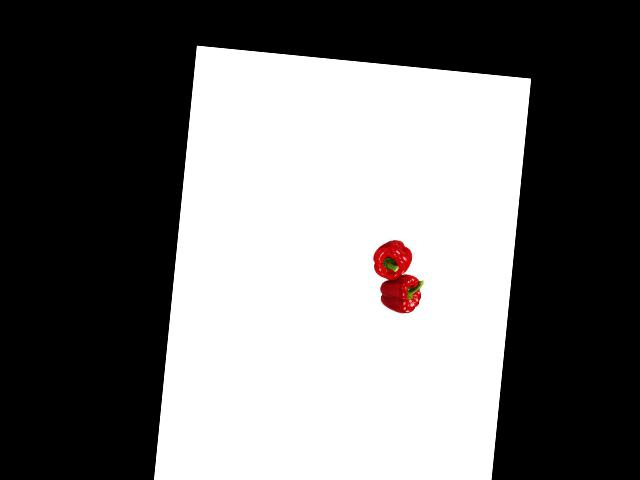bell_pepper: (375, 270, 425, 316)
